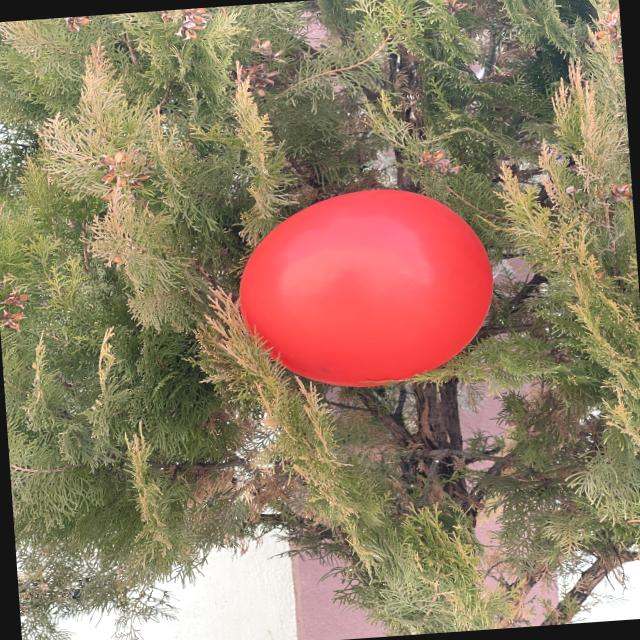balloon: (239, 189, 492, 386)
